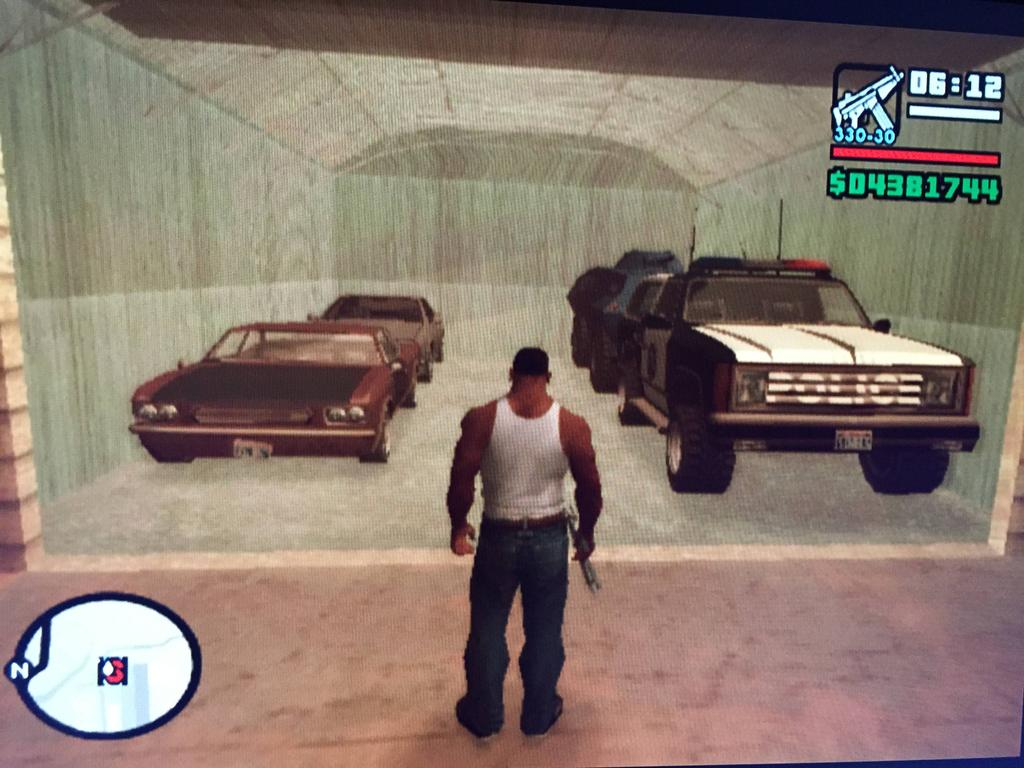car: (622, 271, 982, 514), (135, 313, 420, 469)
person: (464, 349, 589, 738)
